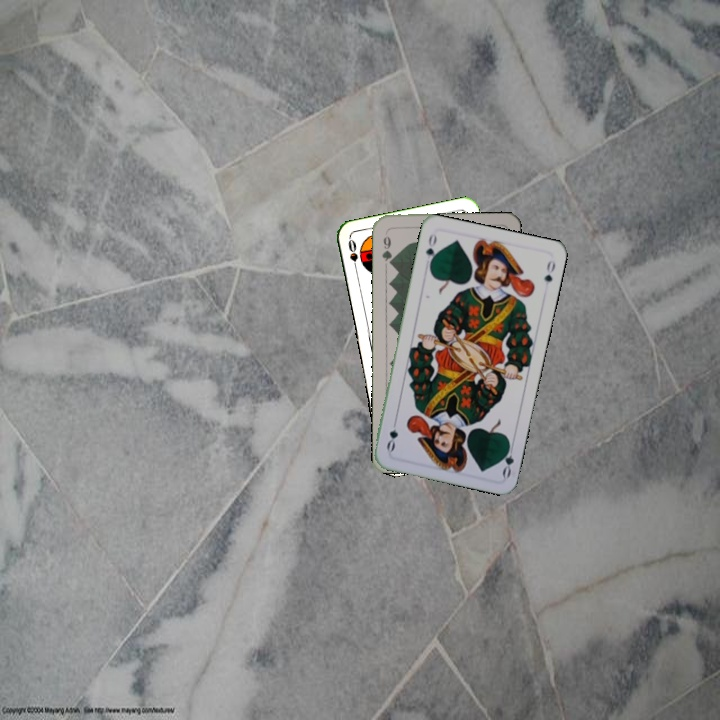G9: (378, 228, 395, 268)
GO: (497, 438, 517, 480), (421, 229, 439, 270)
SO: (344, 235, 361, 276)
